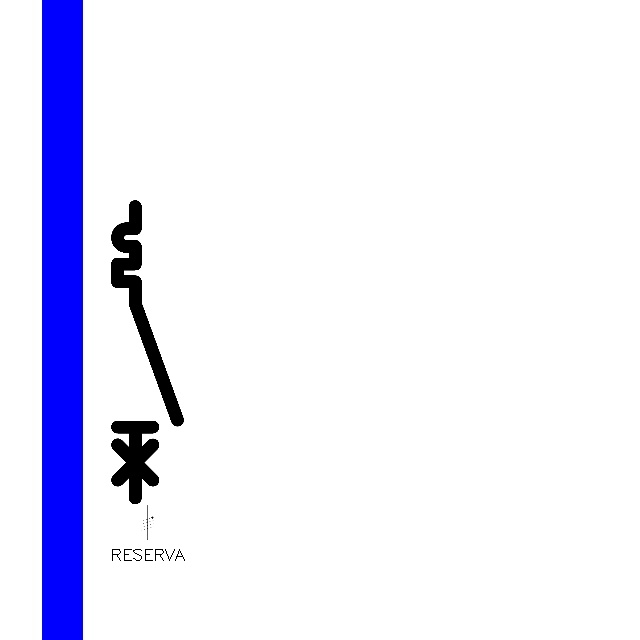interruptor_termomagnetico: (110, 199, 185, 505)
